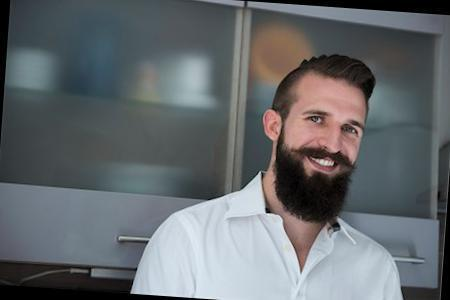Sober: (290, 73, 360, 183)
